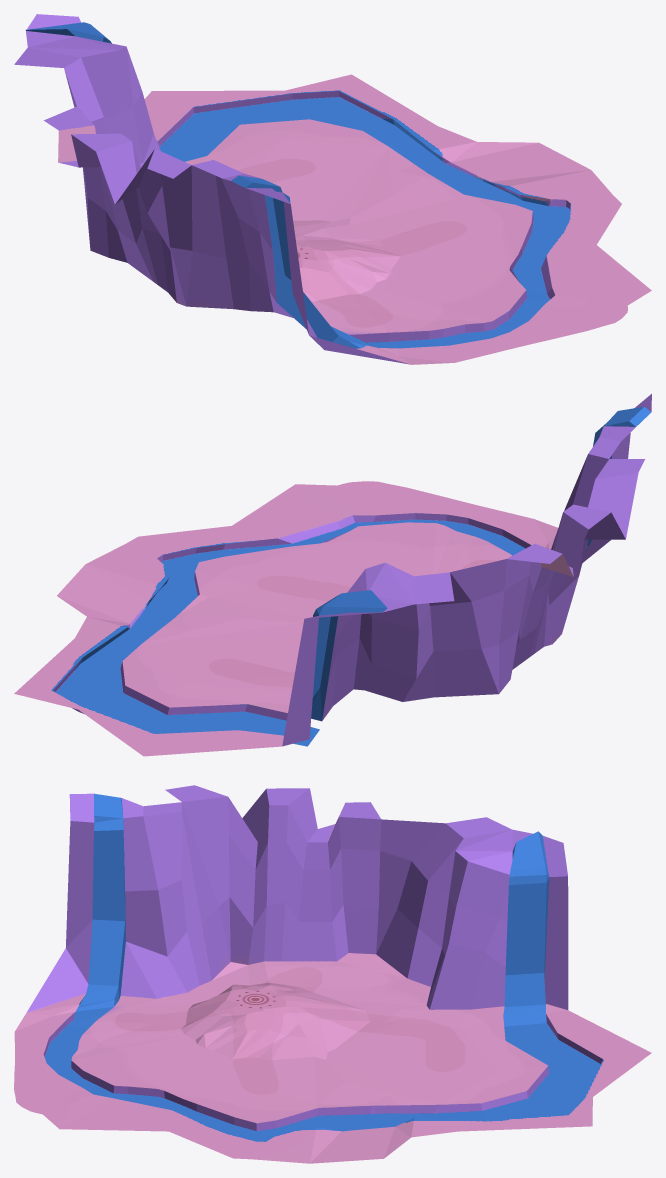
The model's file is ground.obj.
The picture shows the model from 3 angles, top to bottom: view 1: azimuth 30°, elevation 25°; view 2: azimuth 150°, elevation 25°; view 3: azimuth 270°, elevation 25°; orthographic projection. The views are drawn at different scales.
Parts seen in each view (by area): view 1: Ground_02; view 2: Ground_02; view 3: Ground_02.
Boxes of the visible parts, x1,y1,x2,y2 form: Ground_02: [14, 14, 651, 364]; Ground_02: [14, 394, 651, 756]; Ground_02: [14, 785, 651, 1163].
Bounding box in the file's own units: 86.22 × 31.12 × 102.
